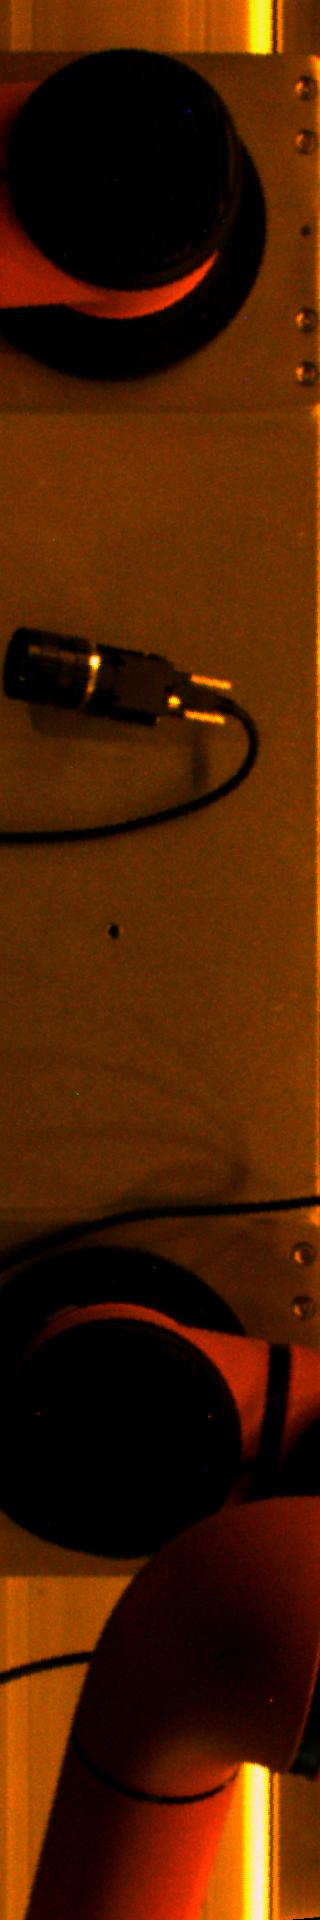keyPoint_2: (98, 916, 128, 947)
